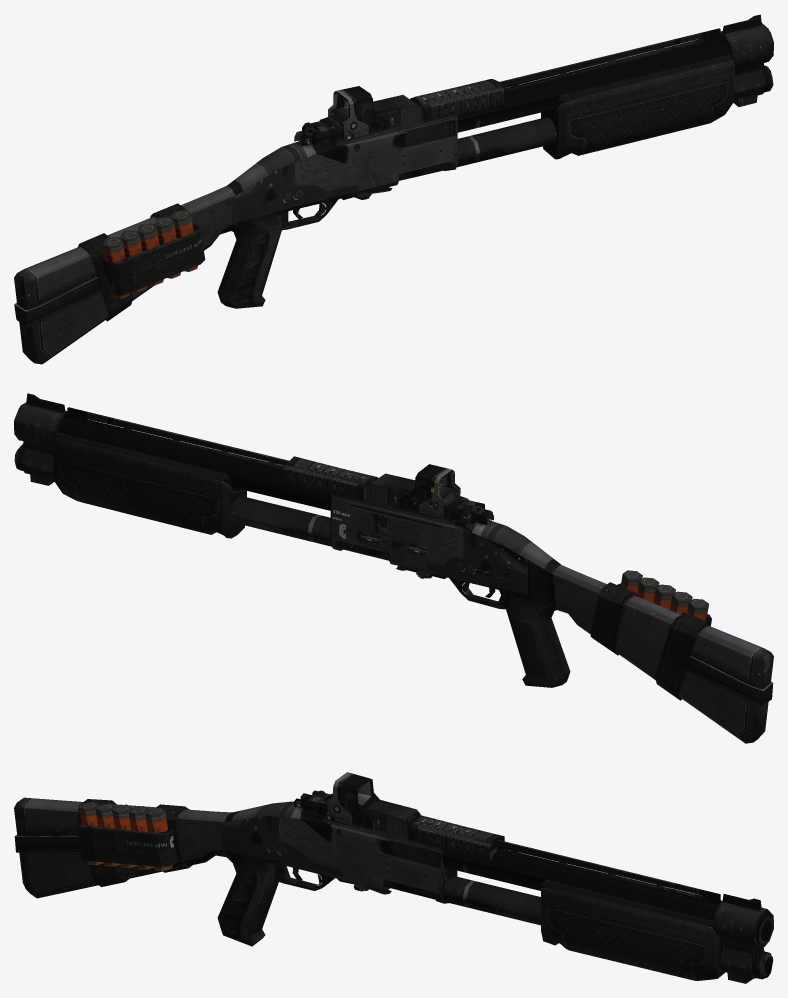
The model's file is ex_shotgun.fbx.
3 renders of one model, top to bottom at view 1: azimuth 30°, elevation 25°; view 2: azimuth 150°, elevation 25°; view 3: azimuth 330°, elevation 25°, orthographic.
Visible parts, largest first — view 1: Castellano CQC-11 Combat Shotgun.001; view 2: Castellano CQC-11 Combat Shotgun.001; view 3: Castellano CQC-11 Combat Shotgun.001.
Boxes of the visible parts, x1,y1,x2,y2 form: Castellano CQC-11 Combat Shotgun.001: (14,14,773,364); Castellano CQC-11 Combat Shotgun.001: (14,393,773,743); Castellano CQC-11 Combat Shotgun.001: (14,772,773,983).
Bounding box in the file's own units: 195 × 48.12 × 13.84.
2 materials, 2 textured.
